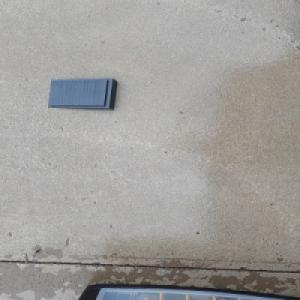PlasticPart: (46, 77, 119, 110)
